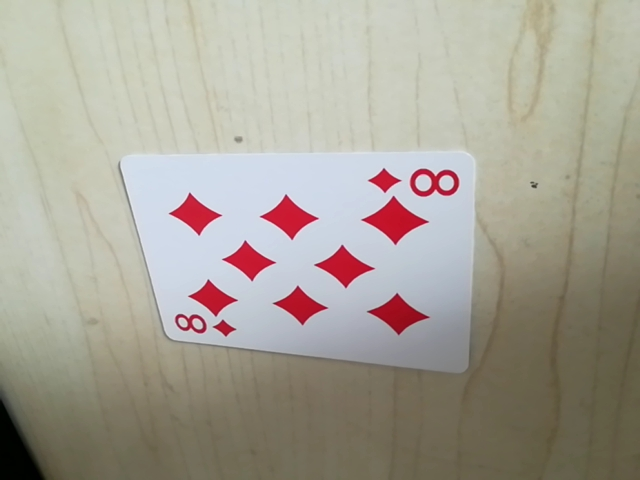fk 8: (367, 158, 465, 201), (168, 309, 238, 343)
